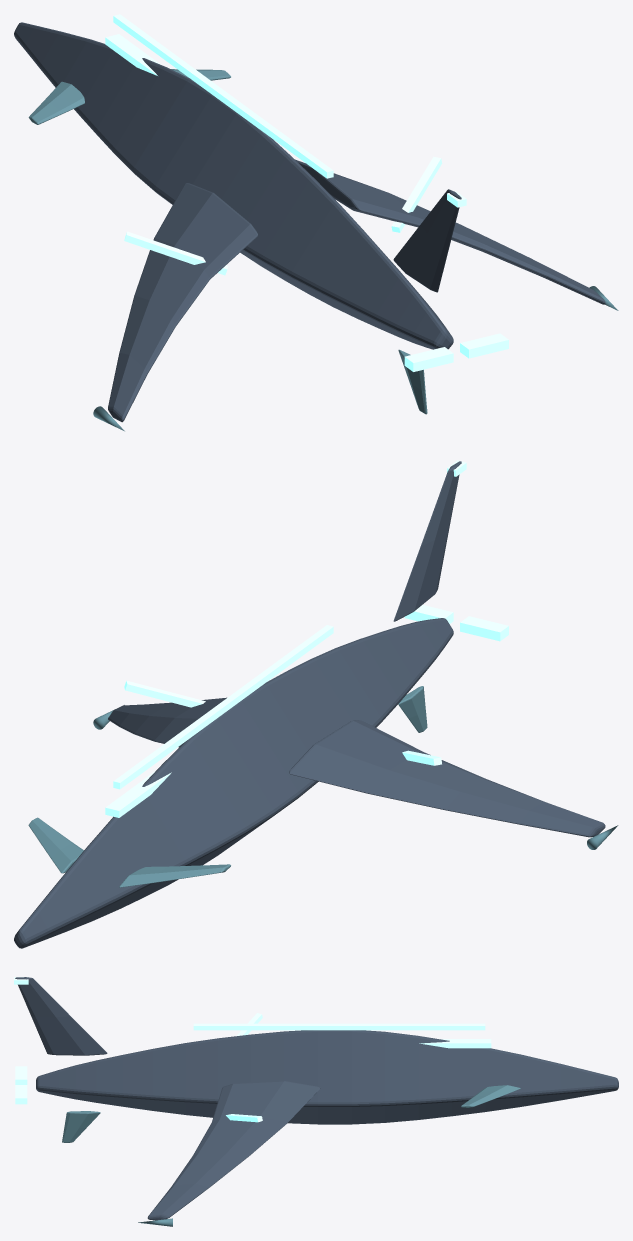
File: shadur-kai.glb
The picture shows the model from 3 angles, top to bottom: view 1: azimuth 30°, elevation 25°; view 2: azimuth 150°, elevation 25°; view 3: azimuth 270°, elevation 25°; orthographic projection. The views are drawn at different scales.
Visible parts, largest first — view 1: hull, wing.002, wing.003, fin, Cube.003, wing, Cube, Cube.004, Cube.001, Cube.005, Cube.006, fin.001; view 2: hull, wing.002, fin, Cube.003, wing.003, wing, wing.001, Cube.004, fin.001, Cube.005, Cube.001; view 3: hull, wing.003, fin, Cube.003, fin.001, wing.001, Cube.004.
Part boxes in pixels (x1=…): hull: x1=14, y1=22, x2=453, y2=349; wing.002: x1=108, y1=183, x2=258, y2=422; wing.003: x1=295, y1=159, x2=605, y2=304; fin: x1=393, y1=189, x2=461, y2=292; Cube.003: x1=113, y1=14, x2=333, y2=178; wing: x1=28, y1=81, x2=84, y2=124; Cube: x1=124, y1=231, x2=228, y2=275; Cube.004: x1=105, y1=34, x2=160, y2=75; Cube.001: x1=391, y1=156, x2=442, y2=232; Cube.005: x1=404, y1=347, x2=453, y2=371; Cube.006: x1=460, y1=333, x2=508, y2=358; fin.001: x1=398, y1=349, x2=427, y2=414; hull: x1=14, y1=618, x2=453, y2=948; wing.002: x1=289, y1=720, x2=605, y2=837; fin: x1=393, y1=461, x2=461, y2=621; Cube.003: x1=113, y1=625, x2=333, y2=789; wing.003: x1=108, y1=697, x2=226, y2=747; wing: x1=119, y1=864, x2=230, y2=887; wing.001: x1=28, y1=817, x2=83, y2=873; Cube.004: x1=105, y1=771, x2=171, y2=817; fin.001: x1=398, y1=686, x2=427, y2=732; Cube.005: x1=460, y1=616, x2=508, y2=641; Cube.001: x1=124, y1=680, x2=205, y2=707; hull: x1=36, y1=1030, x2=618, y2=1124; wing.003: x1=147, y1=1081, x2=320, y2=1220; fin: x1=15, y1=977, x2=107, y2=1055; Cube.003: x1=193, y1=1023, x2=485, y2=1030; fin.001: x1=62, y1=1111, x2=100, y2=1142; wing.001: x1=461, y1=1085, x2=520, y2=1107; Cube.004: x1=419, y1=1039, x2=491, y2=1048.
Size of the model in its own units: 3.27 by 1.52 by 4.98.
